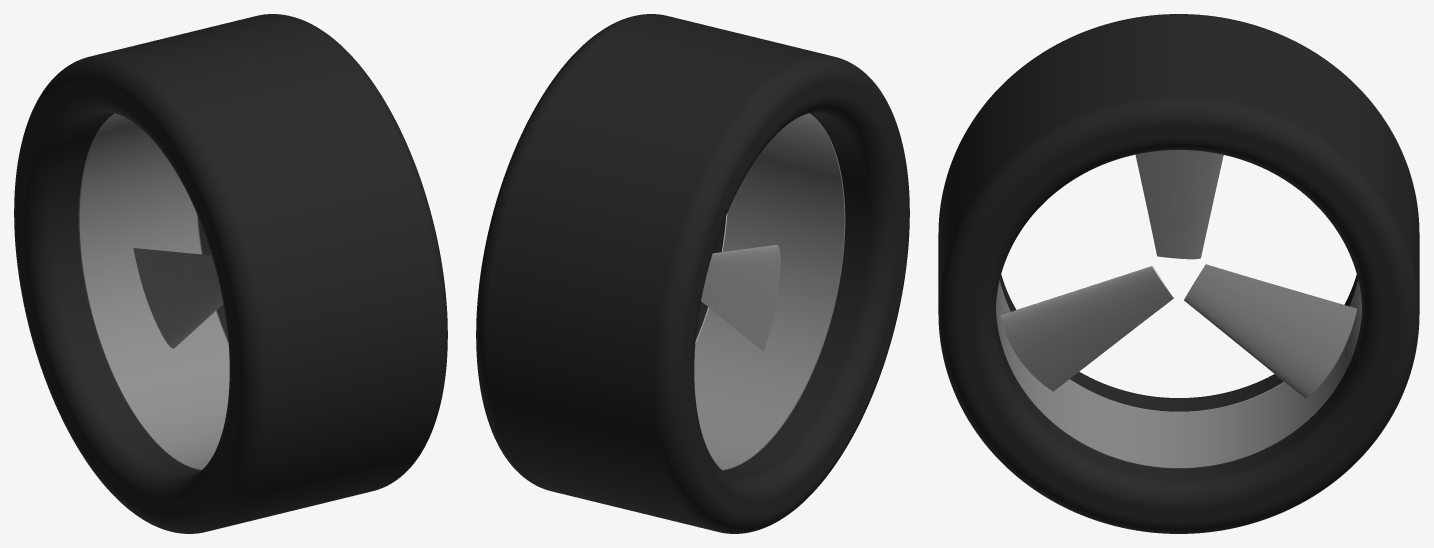
3 views of the same model, side by side, from view 1: azimuth 30°, elevation 25°; view 2: azimuth 150°, elevation 25°; view 3: azimuth 270°, elevation 25° (orthographic).
Bounding box in the file's own units: 0.212 × 0.4373 × 0.4373.
Materials: 4 (1 with a texture image).
